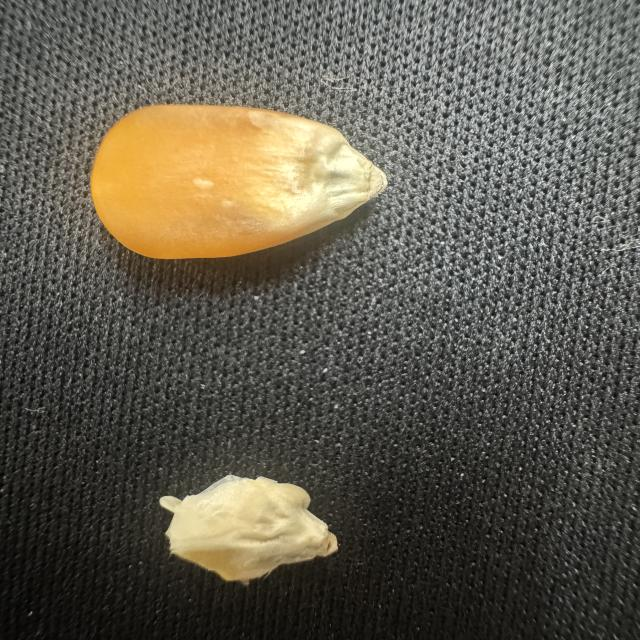Bad-Seed: (159, 463, 348, 587)
Good-Seed: (80, 96, 400, 268)
